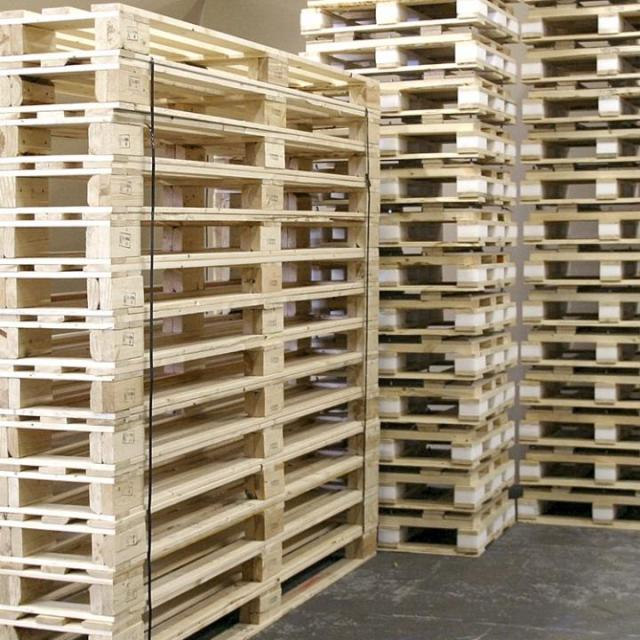Palette: (0, 4, 389, 640), (294, 0, 519, 561), (520, 0, 640, 540)
